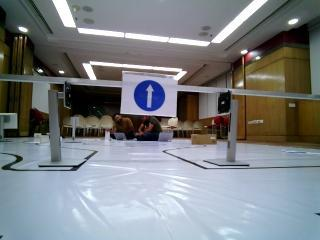straight: (122, 71, 178, 116)
